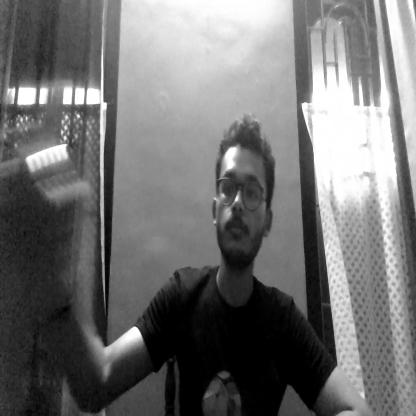Distracted: (210, 102, 272, 298)
